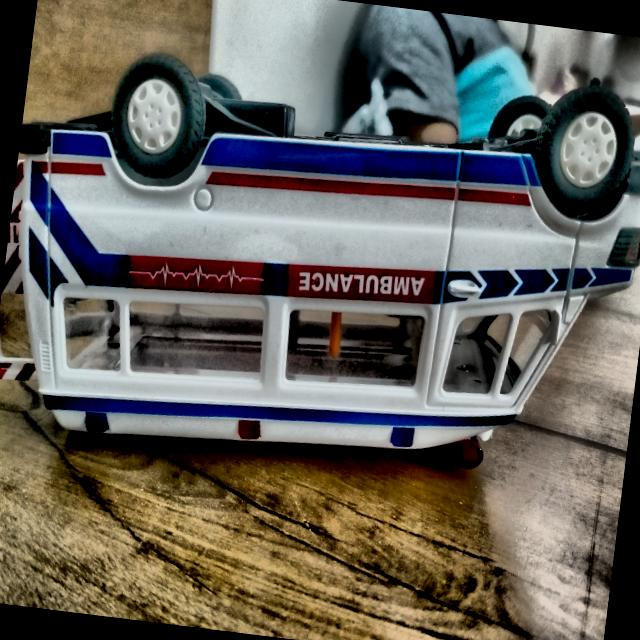Car: (0, 10, 640, 516)
